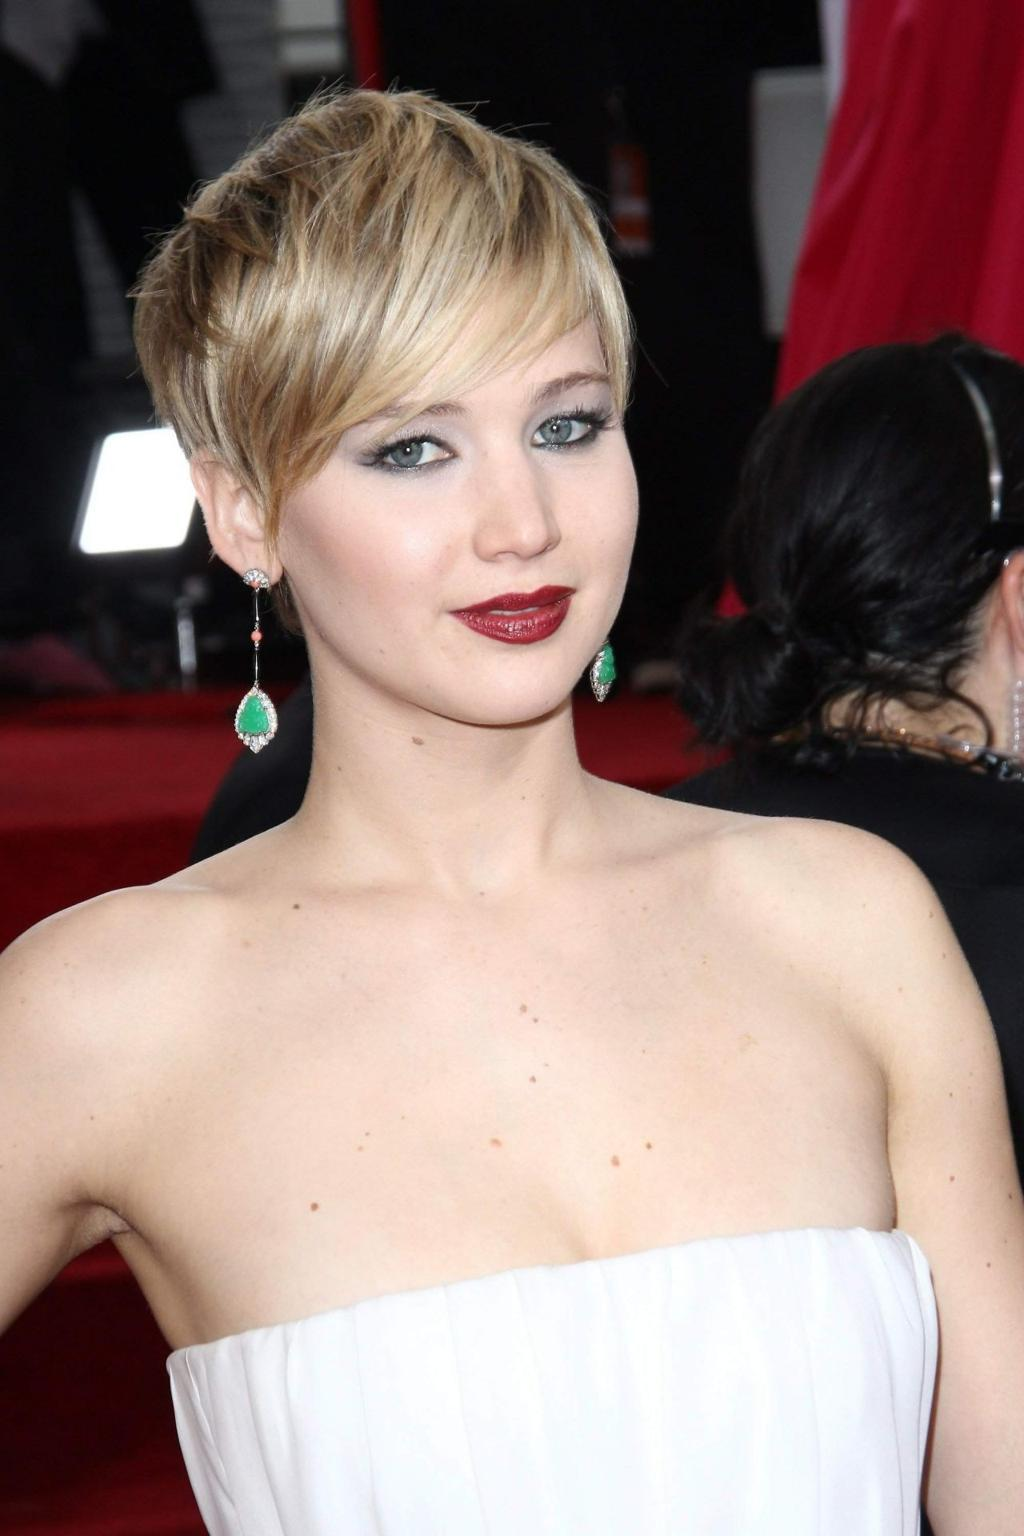face: (271, 220, 637, 721)
